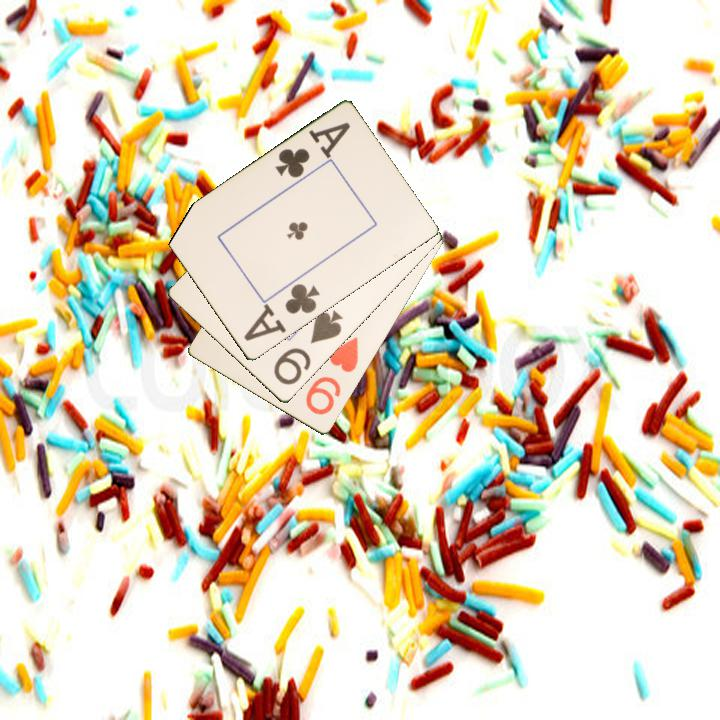9h: (302, 333, 362, 418)
9s: (270, 307, 346, 388)
Ac: (240, 280, 323, 345), (271, 119, 353, 181)
